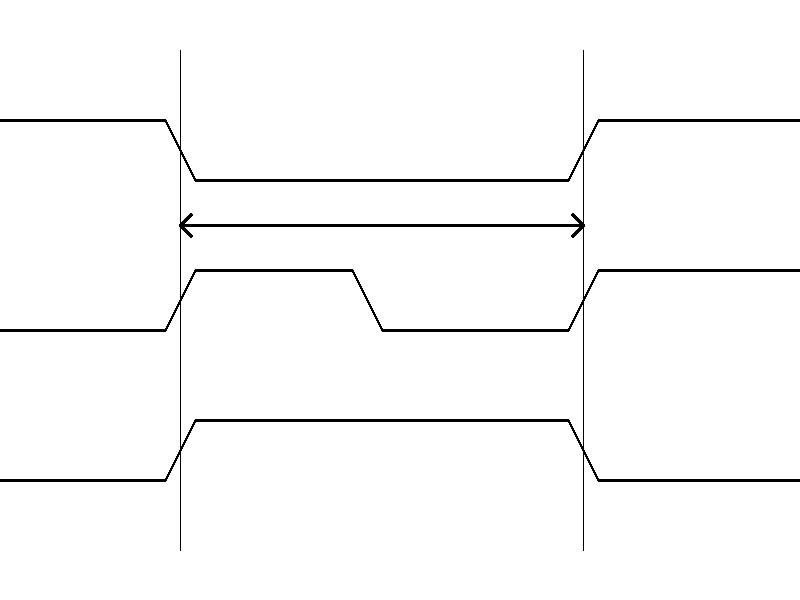double_arrow: (180, 210, 583, 240)
